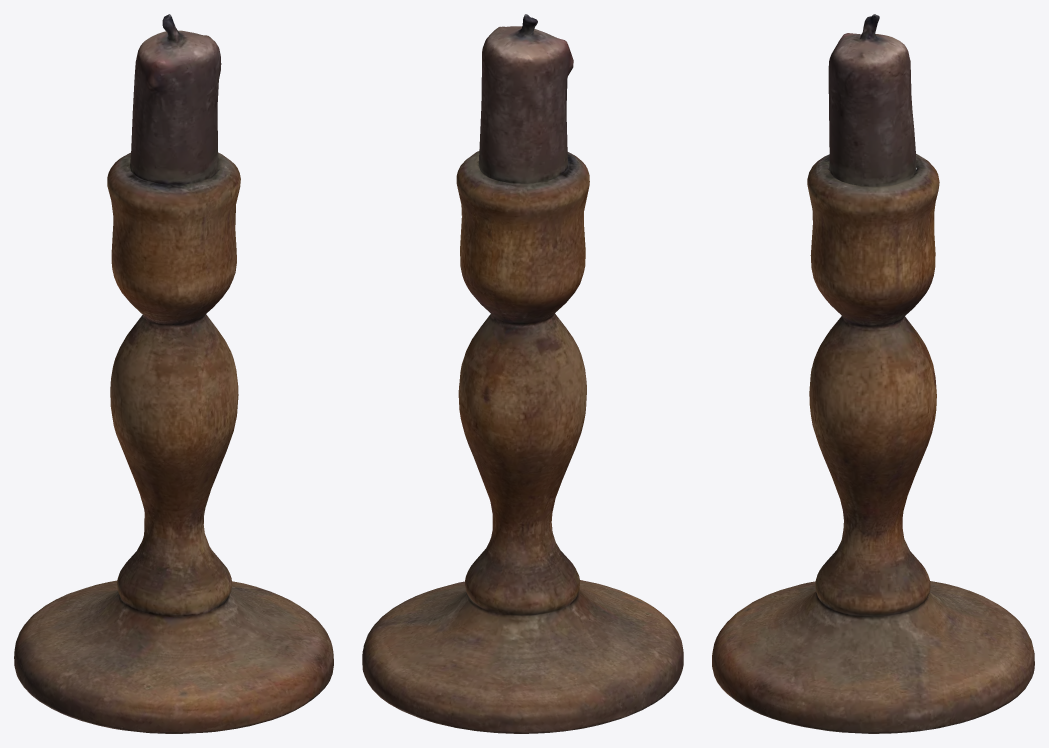
Rendered from wooden_candlestick.glb.
3 views of the same model, side by side, from view 1: azimuth 30°, elevation 25°; view 2: azimuth 150°, elevation 25°; view 3: azimuth 270°, elevation 25° (orthographic).
Parts seen in each view (by area): view 1: wooden_candlestick; view 2: wooden_candlestick; view 3: wooden_candlestick.
Part boxes in pixels (box(x1,y1,x2,y2)): wooden_candlestick: box(14, 14, 333, 733); wooden_candlestick: box(362, 14, 683, 733); wooden_candlestick: box(712, 14, 1034, 733).
Bounding box in the file's own units: 0.0972 × 0.2196 × 0.0986.
Materials: 1 (1 with a texture image).
